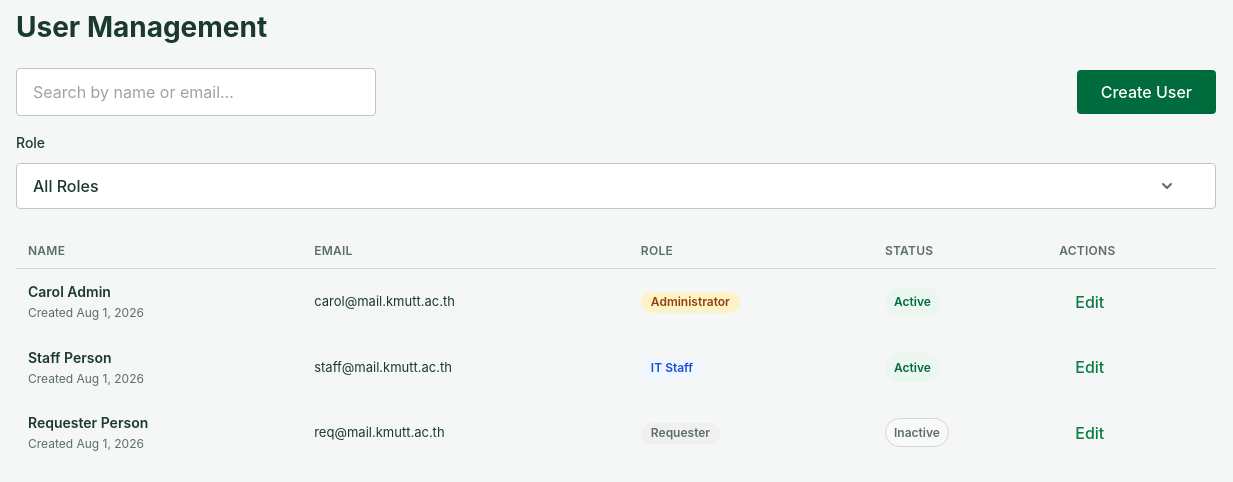
it: UserList (UI-11) › shows the no-results state with Clear Filters action
Check: the table with test id "users-table" is shown, box 16,233 -> 1216,466
Type "zzz" into the search field with test id "user-search-input".
click(196, 92); type("zzz")  # box 16,68 -> 376,116
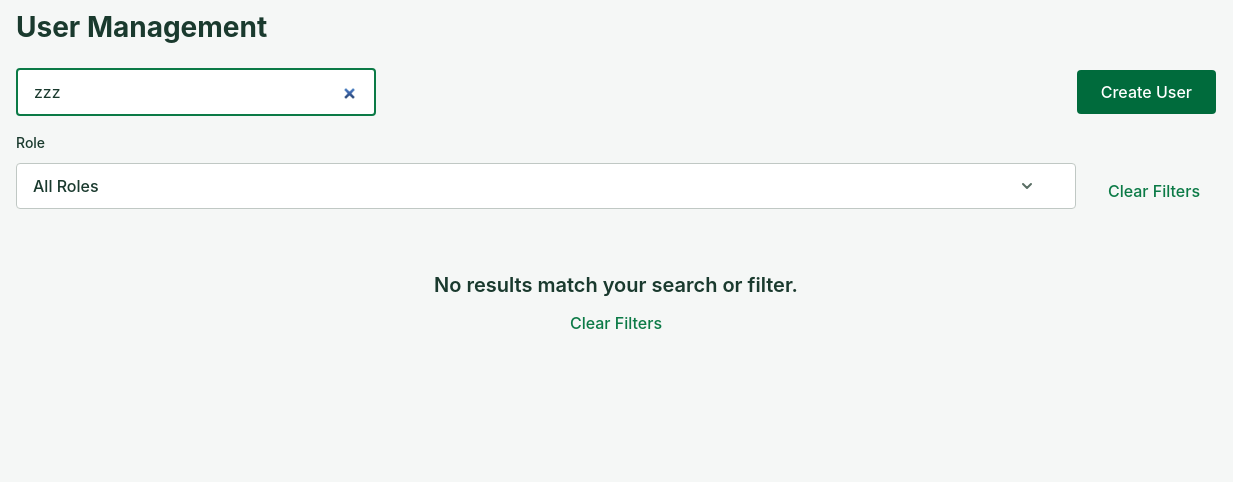
Check: the heading "No results match your search or filter." is shown, box 434,273 -> 798,297
Click the button with test id "user-empty-clear-btn".
click(616, 323)  # box 554,305 -> 678,341
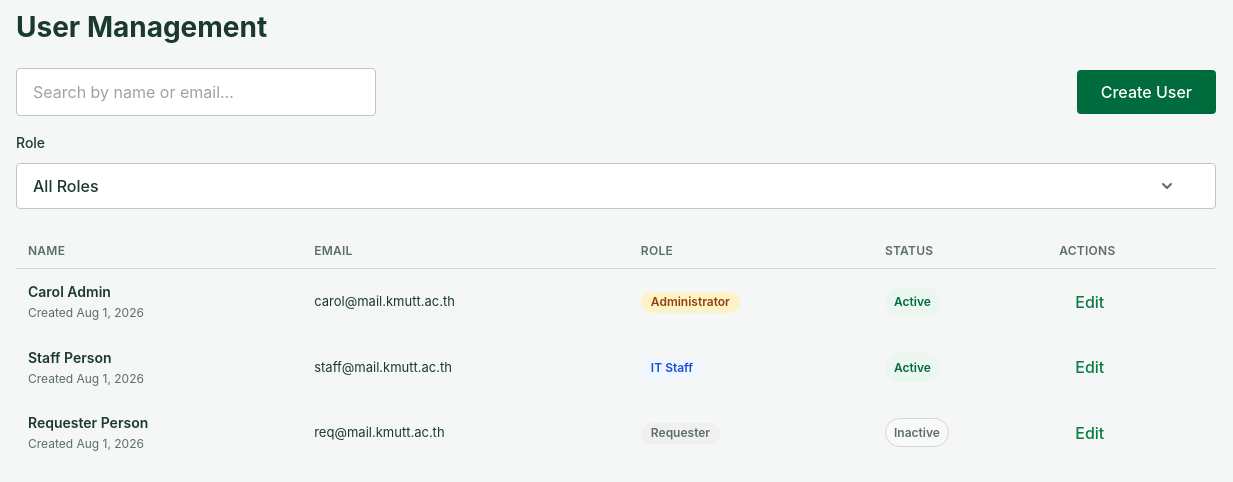
Check: the table with test id "users-table" is shown, box 16,233 -> 1216,466
Check: the element with test id "empty-state" is gone
